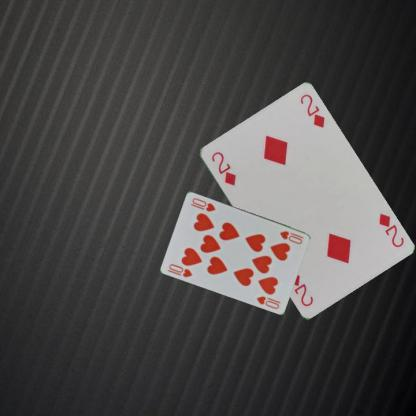10h: (277, 228, 305, 246), (167, 261, 194, 279)
2d: (376, 210, 405, 249), (208, 149, 237, 187)
